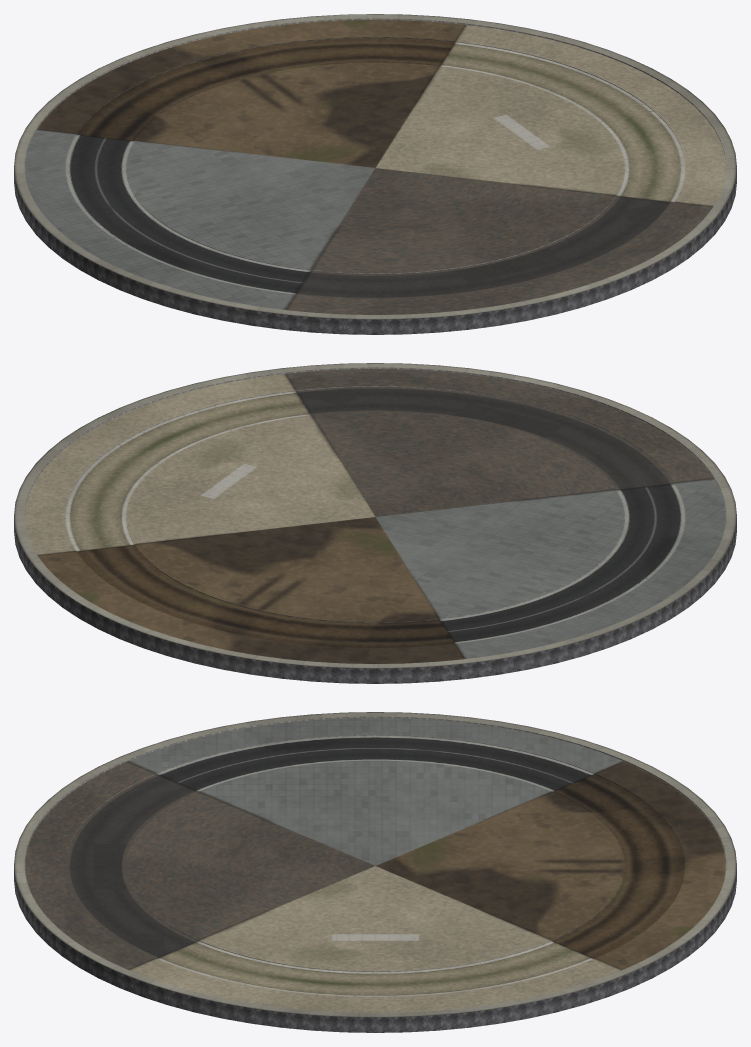
File: island_ground_09.fbx
3 views of the same model, one above another, from view 1: azimuth 30°, elevation 25°; view 2: azimuth 150°, elevation 25°; view 3: azimuth 270°, elevation 25° (orthographic).
Parts seen in each view (by area): view 1: island_ground_09; view 2: island_ground_09; view 3: island_ground_09.
Boxes of the visible parts, bbox=[...] form: island_ground_09: bbox=[14, 14, 736, 334]; island_ground_09: bbox=[14, 363, 736, 683]; island_ground_09: bbox=[14, 712, 736, 1032].
Bounding box in the file's own units: 4200 × 99 × 4200.
